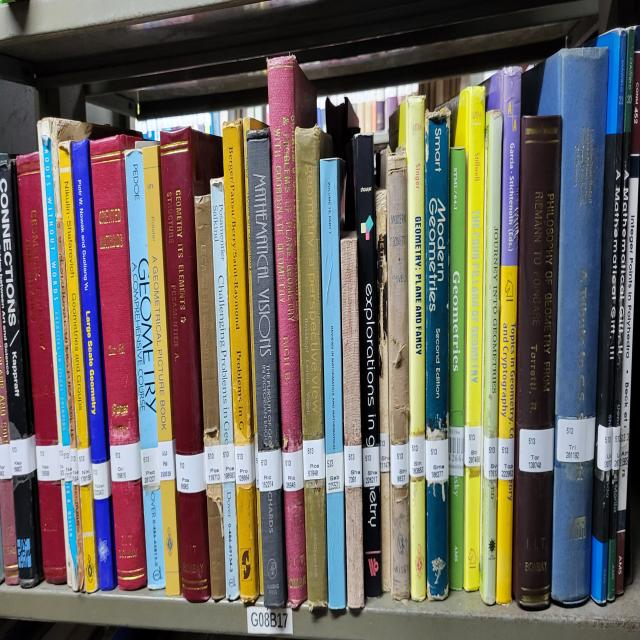Book: (522, 49, 609, 606), (159, 127, 222, 601), (268, 57, 316, 609), (90, 135, 148, 590), (38, 116, 92, 590), (512, 116, 562, 609), (16, 152, 66, 584), (590, 30, 626, 606), (136, 143, 181, 595), (71, 141, 116, 590), (246, 130, 286, 609), (222, 119, 260, 603), (0, 154, 42, 587), (59, 141, 99, 593), (295, 127, 332, 611), (125, 149, 165, 590), (451, 87, 485, 590), (351, 135, 381, 598), (616, 27, 640, 593), (381, 149, 410, 601), (210, 179, 240, 601), (425, 111, 450, 601), (320, 160, 346, 609), (404, 97, 426, 601), (480, 108, 502, 603), (340, 233, 365, 609), (449, 146, 466, 590), (496, 265, 518, 603), (375, 189, 391, 593), (195, 195, 220, 446), (206, 484, 226, 601)
Label: (556, 417, 595, 463), (519, 427, 554, 473), (110, 441, 141, 482), (175, 452, 206, 492), (425, 438, 449, 484), (10, 436, 36, 476), (258, 449, 282, 492), (302, 438, 325, 482), (36, 444, 61, 482), (282, 449, 304, 492), (141, 446, 160, 490), (390, 444, 409, 487), (235, 444, 255, 484), (158, 438, 176, 482), (92, 460, 111, 501), (344, 444, 362, 487), (59, 446, 79, 484), (325, 452, 344, 492), (362, 446, 380, 487), (449, 427, 464, 476), (464, 425, 481, 468), (498, 438, 514, 482), (409, 436, 425, 479), (482, 436, 498, 479), (598, 425, 612, 471), (205, 444, 221, 484), (220, 444, 235, 484), (78, 446, 92, 487), (611, 425, 621, 471), (380, 433, 390, 471), (380, 465, 382, 471)
